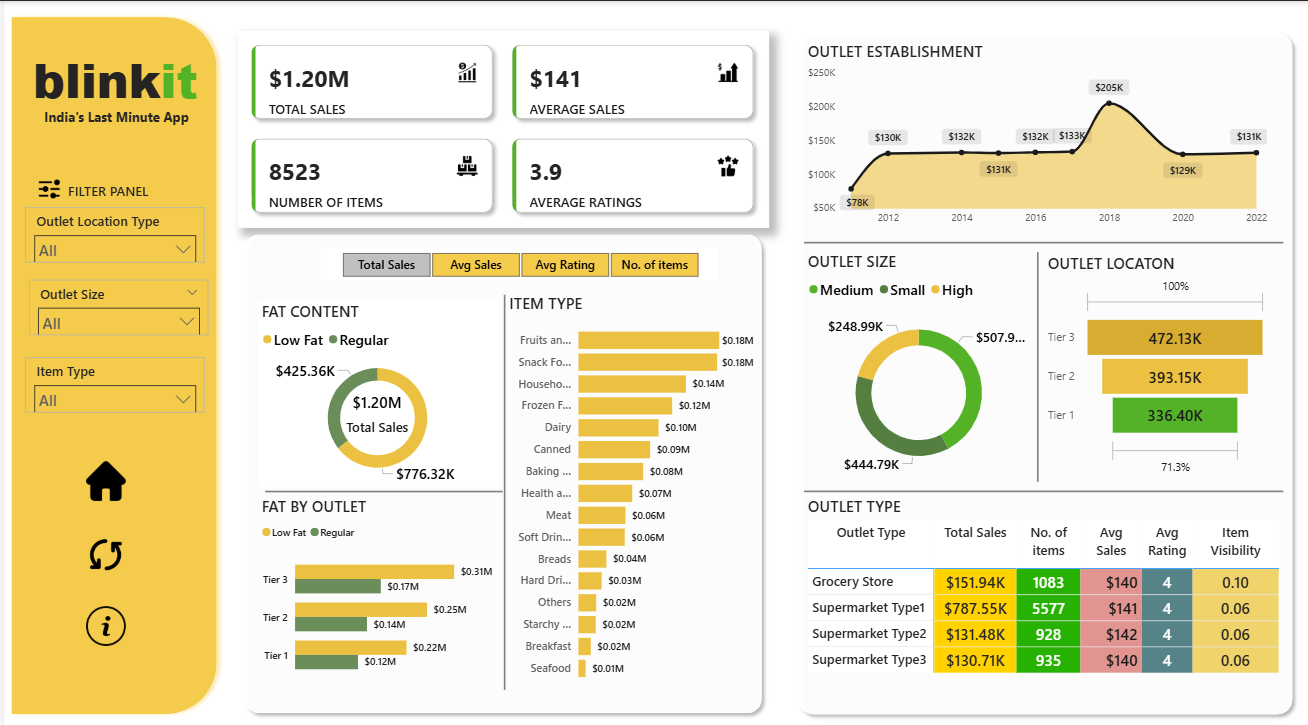

What the dashboard file says about the page in this screenshot:
{"tool":"powerbi","page":{"name":"Dashboard","canvas":[1600,900],"ordinal":0},"visuals":[{"type":"shape","box":[0,10,270,873.3],"z":0},{"type":"textbox","box":[30,48.6,232.9,95.7],"z":1000},{"type":"textbox","box":[44.3,125.7,205.7,37.1],"z":2000},{"type":"cardVisual","fields":{"Data":["BlinkIT Grocery Data.Total Sales","BlinkIT Grocery Data.Avg Sales","BlinkIT Grocery Data.Number of items","BlinkIT Grocery Data.Avg Rating"]},"box":[286.7,36.7,651.7,241.7],"z":3000},{"type":"shape","box":[286.7,278.3,651.7,605],"z":4000},{"type":"donutChart","title":"FAT CONTENT","fields":{"Y":["BlinkIT Grocery Data.Total Sales"],"Category":["BlinkIT Grocery Data.Item Fat Content"]},"box":[311.7,367.3,294.3,228.6],"z":5000},{"type":"slicer","fields":{"Values":["Metrics.Metrics"]},"box":[390,301.7,486.7,40],"z":6000},{"type":"card","fields":{"Values":["BlinkIT Grocery Data.Total Sales"]},"box":[406.7,456.7,103.3,95],"z":7000},{"type":"clusteredBarChart","title":"FAT BY OUTLET","fields":{"Y":["BlinkIT Grocery Data.Total Sales"],"Category":["BlinkIT Grocery Data.Outlet Location Type"],"Series":["BlinkIT Grocery Data.Item Fat Content"]},"box":[311.7,606.7,295,238.3],"z":8000},{"type":"shape","box":[320,580,291.4,44.3],"z":9000},{"type":"shape","box":[595,360,38.3,485],"z":10000},{"type":"barChart","title":"ITEM TYPE","fields":{"Y":["BlinkIT Grocery Data.Total Sales"],"Category":["BlinkIT Grocery Data.Item Type"]},"box":[615,356.7,310,488.3],"z":11000},{"type":"shape","box":[966.7,30,623.3,853.3],"z":12000},{"type":"lineChart","title":"OUTLET ESTABLISHMENT","fields":{"Category":["BlinkIT Grocery Data.Outlet Establishment Year"],"Y":["BlinkIT Grocery Data.Total Sales"]},"box":[981.7,48.3,573.3,235],"z":13000},{"type":"shape","box":[981.7,279,588.1,34.7],"z":14000},{"type":"donutChart","title":"OUTLET SIZE","fields":{"Y":["BlinkIT Grocery Data.Total Sales"],"Category":["BlinkIT Grocery Data.Outlet Size"]},"box":[981.7,306.1,282,289.5],"z":15000},{"type":"shape","box":[1248.3,308.3,40,281.7],"z":16000},{"type":"funnel","title":"OUTLET LOCATON","fields":{"Y":["Sum(BlinkIT Grocery Data.Sales)"],"Category":["BlinkIT Grocery Data.Outlet Location Type"]},"box":[1276.7,308.3,278.3,280],"z":17000},{"type":"shape","box":[981.7,585.1,588.1,34.7],"z":18000},{"type":"pivotTable","title":"OUTLET TYPE","fields":{"Rows":["BlinkIT Grocery Data.Outlet Type"],"Values":["BlinkIT Grocery Data.Total Sales","BlinkIT Grocery Data.No. of items","BlinkIT Grocery Data.Avg Sales","BlinkIT Grocery Data.Avg Rating","Avg(BlinkIT Grocery Data.Item Visibility)"]},"box":[981.7,606.7,588.3,238.3],"z":19000},{"type":"slicer","fields":{"Values":["BlinkIT Grocery Data.Outlet Location Type"]},"box":[26.7,253.3,220,68.3],"z":20000},{"type":"slicer","fields":{"Values":["BlinkIT Grocery Data.Outlet Size"]},"box":[30,341.7,220,68.3],"z":21000},{"type":"slicer","fields":{"Values":["BlinkIT Grocery Data.Item Type"]},"box":[26.7,436.7,220,68.3],"z":22000},{"type":"textbox","box":[74.2,215.7,123.7,37.7],"z":23000},{"type":"image","box":[95,559.5,60.3,58.8],"z":24000},{"type":"image","box":[36.5,206.6,37.7,46.7],"z":25000},{"type":"image","box":[95,650,60.3,58.8],"z":26000},{"type":"image","box":[95,737.4,60.3,58.8],"z":28000}]}

Visuals, with their boxes in screenshot pixels (x1, y1, x2, y2), scaled from the page's 1600x900 canvas onto the 1308x725 screenshot:
shape: l=0, t=8, r=221, b=712
textbox: l=25, t=39, r=215, b=116
textbox: l=36, t=101, r=204, b=131
cardVisual - BlinkIT Grocery Data.Total Sales x BlinkIT Grocery Data.Avg Sales: l=234, t=30, r=767, b=224
shape: l=234, t=224, r=767, b=712
"FAT CONTENT" donutChart: l=255, t=296, r=495, b=480
slicer - Metrics.Metrics: l=319, t=243, r=717, b=275
card - BlinkIT Grocery Data.Total Sales: l=332, t=368, r=417, b=444
"FAT BY OUTLET" clusteredBarChart: l=255, t=489, r=496, b=681
shape: l=262, t=467, r=500, b=503
shape: l=486, t=290, r=518, b=681
"ITEM TYPE" barChart: l=503, t=287, r=756, b=681
shape: l=790, t=24, r=1300, b=712
"OUTLET ESTABLISHMENT" lineChart: l=803, t=39, r=1271, b=228
shape: l=803, t=225, r=1283, b=253
"OUTLET SIZE" donutChart: l=803, t=247, r=1033, b=480
shape: l=1020, t=248, r=1053, b=475
"OUTLET LOCATON" funnel: l=1044, t=248, r=1271, b=474
shape: l=803, t=471, r=1283, b=499
"OUTLET TYPE" pivotTable: l=803, t=489, r=1283, b=681
slicer - BlinkIT Grocery Data.Outlet Location Type: l=22, t=204, r=202, b=259
slicer - BlinkIT Grocery Data.Outlet Size: l=25, t=275, r=204, b=330
slicer - BlinkIT Grocery Data.Item Type: l=22, t=352, r=202, b=407
textbox: l=61, t=174, r=162, b=204
image: l=78, t=451, r=127, b=498
image: l=30, t=166, r=61, b=204
image: l=78, t=524, r=127, b=571
image: l=78, t=594, r=127, b=641
